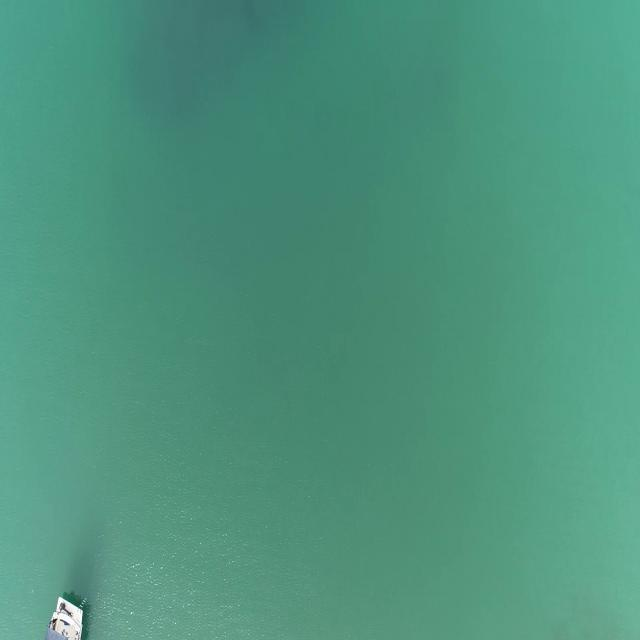boat: (37, 594, 93, 640)
